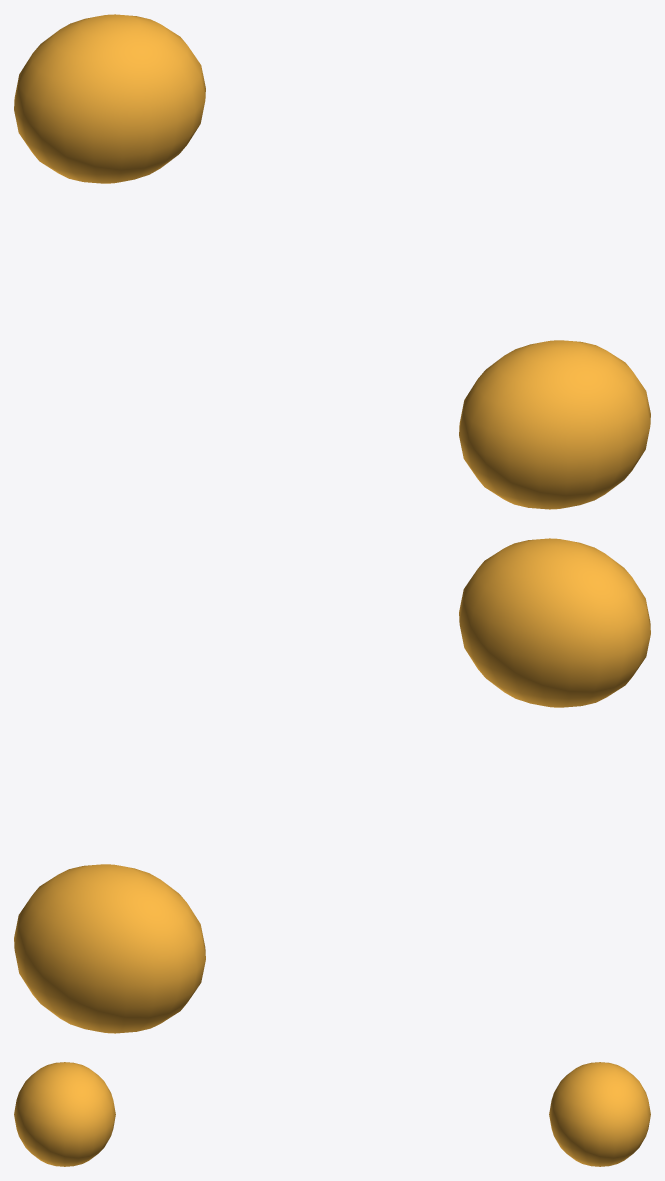
The model's file is indicators_front.glb.
The picture shows the model from 3 angles, top to bottom: view 1: azimuth 30°, elevation 25°; view 2: azimuth 150°, elevation 25°; view 3: azimuth 270°, elevation 25°; orthographic projection. The views are drawn at different scales.
Parts seen in each view (by area): view 1: S51_Indicators_Front; view 2: S51_Indicators_Front; view 3: S51_Indicators_Front.
Part boxes in pixels (x1=…): S51_Indicators_Front: x1=14, y1=14, x2=650, y2=509; S51_Indicators_Front: x1=14, y1=538, x2=650, y2=1033; S51_Indicators_Front: x1=14, y1=1062, x2=650, y2=1166.
Bounding box in the file's own units: 0.19 × 0.16 × 1.
